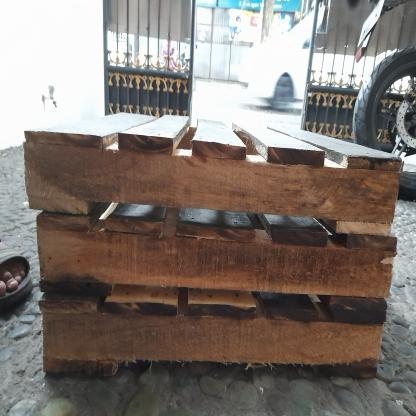Wooden-Pallet: (23, 108, 403, 234), (35, 212, 399, 310), (38, 295, 390, 385)
